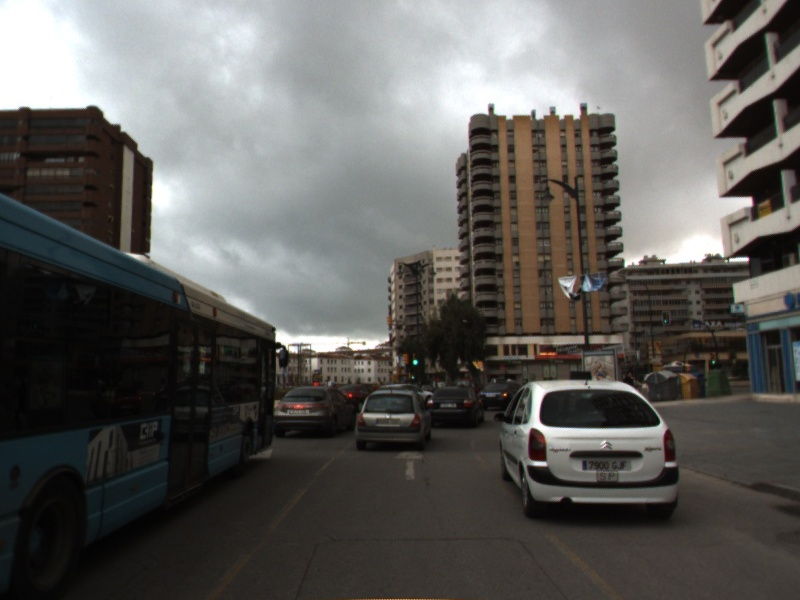STRAIGHT: (392, 448, 428, 482)
